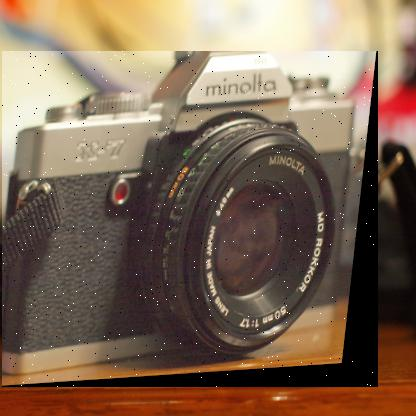Camera: (3, 52, 380, 389)
